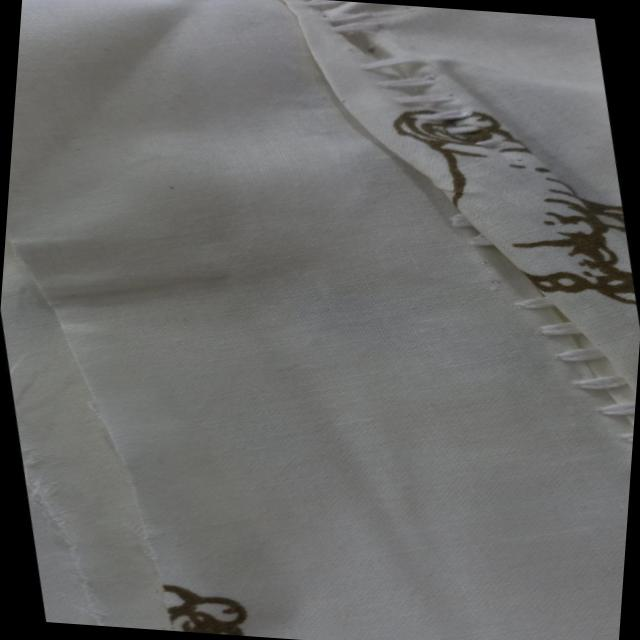gray stitch: (420, 175, 640, 475), (279, 0, 525, 174)
